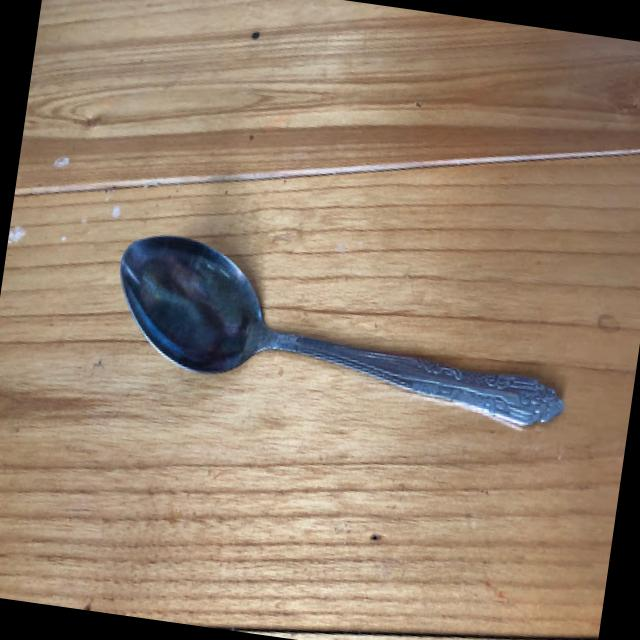spoon: (78, 202, 604, 485)
